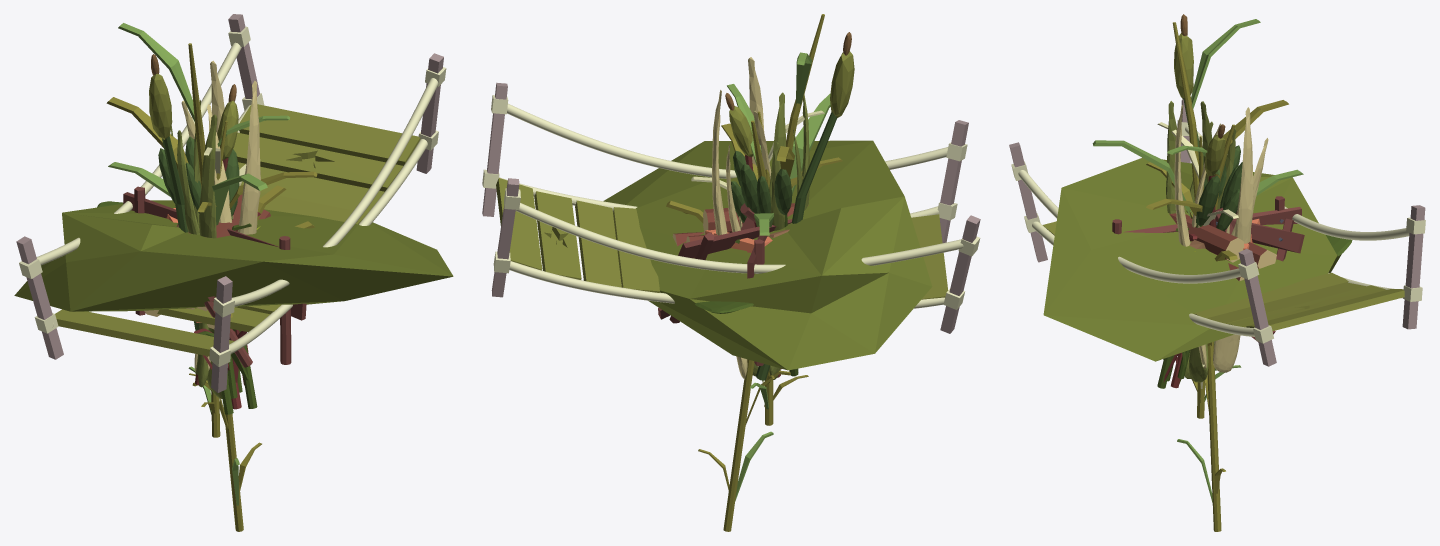
File: things.fbx
3 renders of one model, left to right at view 1: azimuth 30°, elevation 25°; view 2: azimuth 150°, elevation 25°; view 3: azimuth 270°, elevation 25°, orthographic. The views are drawn at different scales.
Visible parts, largest first — view 1: wyspa.011, wyspa.006, Cube.049, wyspa.002, Cube.048, wyspa.015, wyspa.003, Cube.035, wyspa.005, wyspa.010, Cube.042, Cube.043; view 2: wyspa.011, wyspa.006, Cube.049, wyspa.002, wyspa.003, Cube.035, Cube.048, wyspa.013, wyspa.005, wyspa.010, Cube.042, Cube.043; view 3: wyspa.011, wyspa.006, Cube.049, wyspa.002, Cube.048, Cube.042, wyspa.003, wyspa.013, Cube.035, wyspa.015, Cube.043, wyspa.005 (+1 smaller).
Part boxes in pixels (bbox=[...]): wyspa.011: bbox=[14, 200, 453, 311]; wyspa.006: bbox=[16, 14, 446, 392]; Cube.049: bbox=[149, 54, 260, 398]; wyspa.002: bbox=[106, 23, 314, 531]; Cube.048: bbox=[158, 136, 257, 414]; wyspa.015: bbox=[123, 186, 306, 364]; wyspa.003: bbox=[108, 115, 317, 437]; Cube.035: bbox=[171, 100, 231, 355]; wyspa.005: bbox=[194, 84, 238, 387]; wyspa.010: bbox=[185, 162, 244, 398]; Cube.042: bbox=[144, 194, 270, 329]; Cube.043: bbox=[189, 120, 246, 416]; wyspa.011: bbox=[603, 140, 932, 370]; wyspa.006: bbox=[482, 82, 980, 333]; Cube.049: bbox=[712, 32, 854, 380]; wyspa.002: bbox=[666, 14, 830, 531]; wyspa.003: bbox=[721, 84, 808, 425]; Cube.035: bbox=[726, 110, 802, 232]; Cube.048: bbox=[733, 151, 798, 377]; wyspa.013: bbox=[658, 219, 792, 323]; wyspa.005: bbox=[725, 93, 753, 228]; wyspa.010: bbox=[731, 176, 781, 369]; Cube.042: bbox=[672, 203, 808, 258]; Cube.043: bbox=[691, 110, 842, 407]; wyspa.011: bbox=[1043, 157, 1341, 361]; wyspa.006: bbox=[1009, 99, 1425, 366]; Cube.049: bbox=[1166, 14, 1254, 382]; wyspa.002: bbox=[1092, 19, 1288, 531]; Cube.048: bbox=[1157, 145, 1242, 388]; Cube.042: bbox=[1169, 213, 1276, 281]; wyspa.003: bbox=[1146, 124, 1303, 418]; wyspa.013: bbox=[1230, 218, 1304, 341]; Cube.035: bbox=[1186, 121, 1268, 235]; wyspa.015: bbox=[1112, 196, 1301, 234]; Cube.043: bbox=[1146, 122, 1238, 403]; wyspa.005: bbox=[1197, 124, 1229, 233].
Size of the model in its own units: 452 by 490 by 389.
